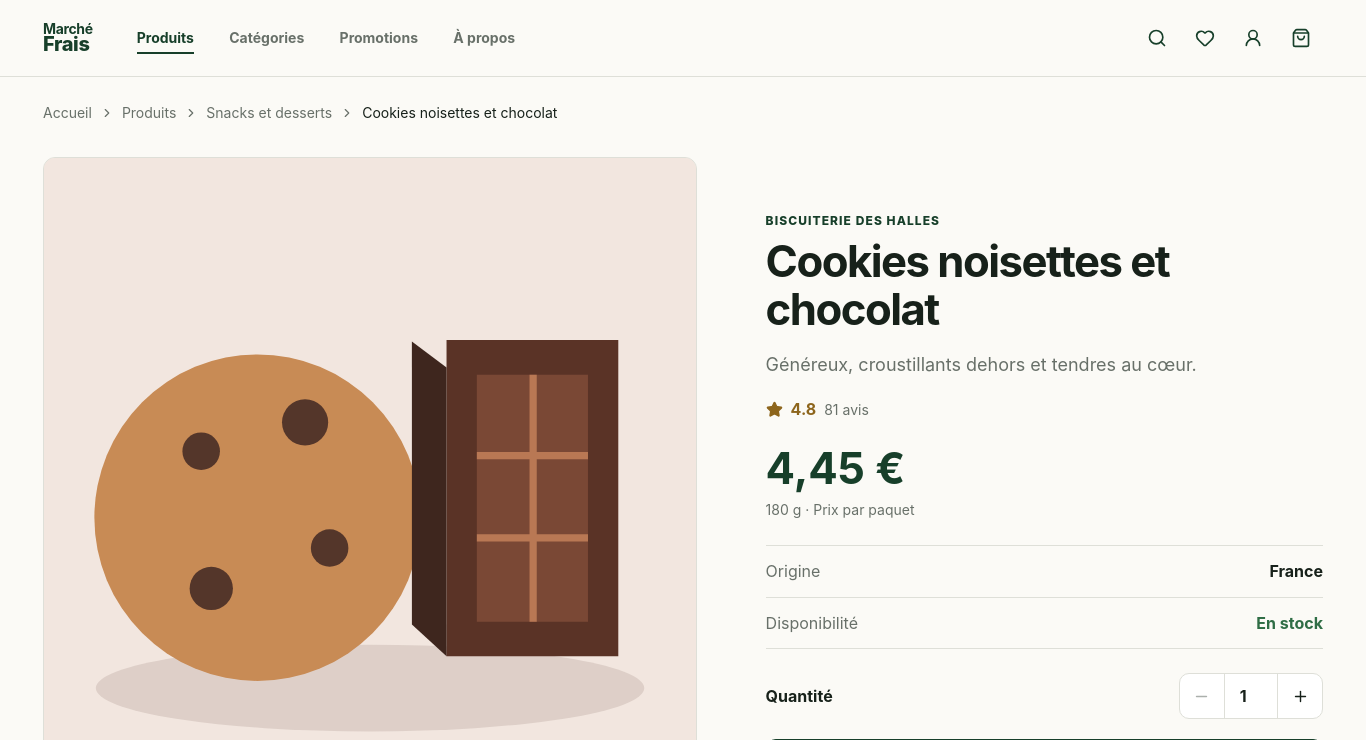
Test case: ProductPage › limits the desired quantity to the available stock
Expected: the number field named "Quantité désirée" holds "1", [1224,674,1278,718]
Click the button named "Augmenter la quantité": (1300,696) [1278,674,1322,718]
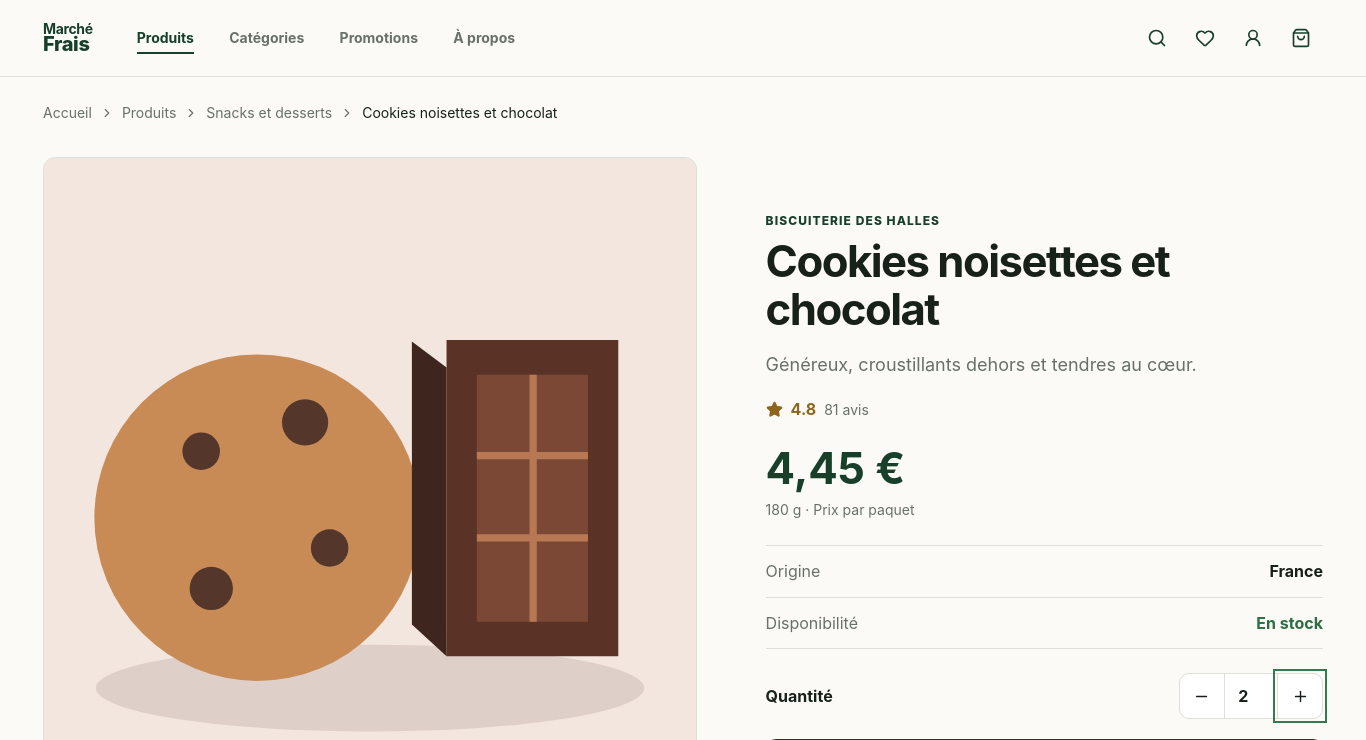
Now the number field named "Quantité désirée" holds "2", box [1224,674,1278,718]
Click the button named "Diminuer la quantité": (1202,696) [1180,674,1224,718]
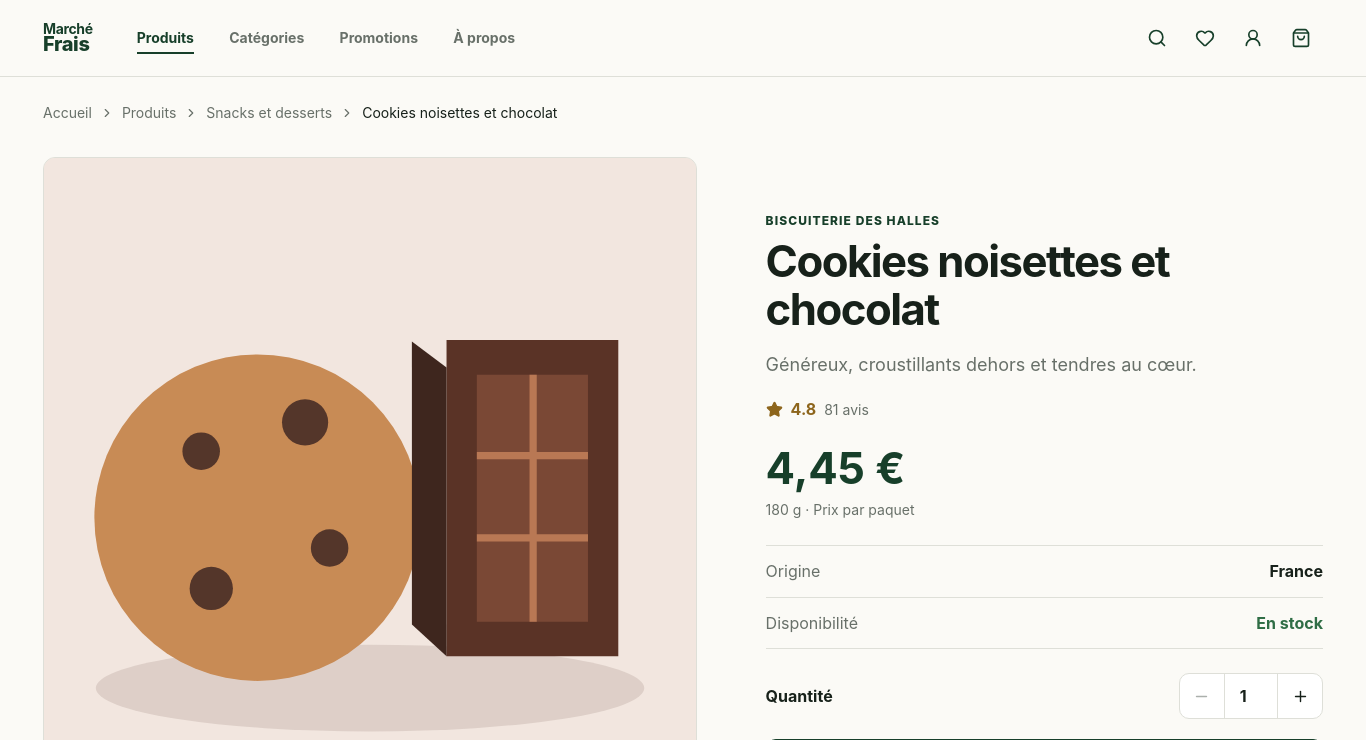
Now the number field named "Quantité désirée" holds "1", box [1224,674,1278,718]
